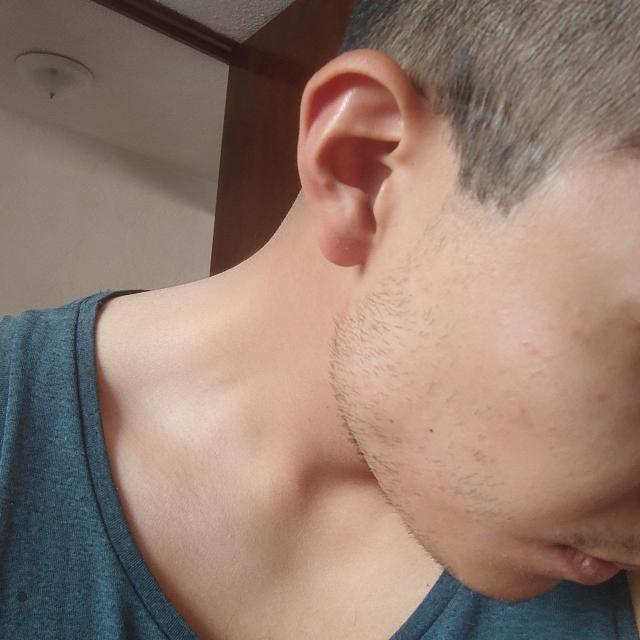ear: (298, 50, 417, 266)
